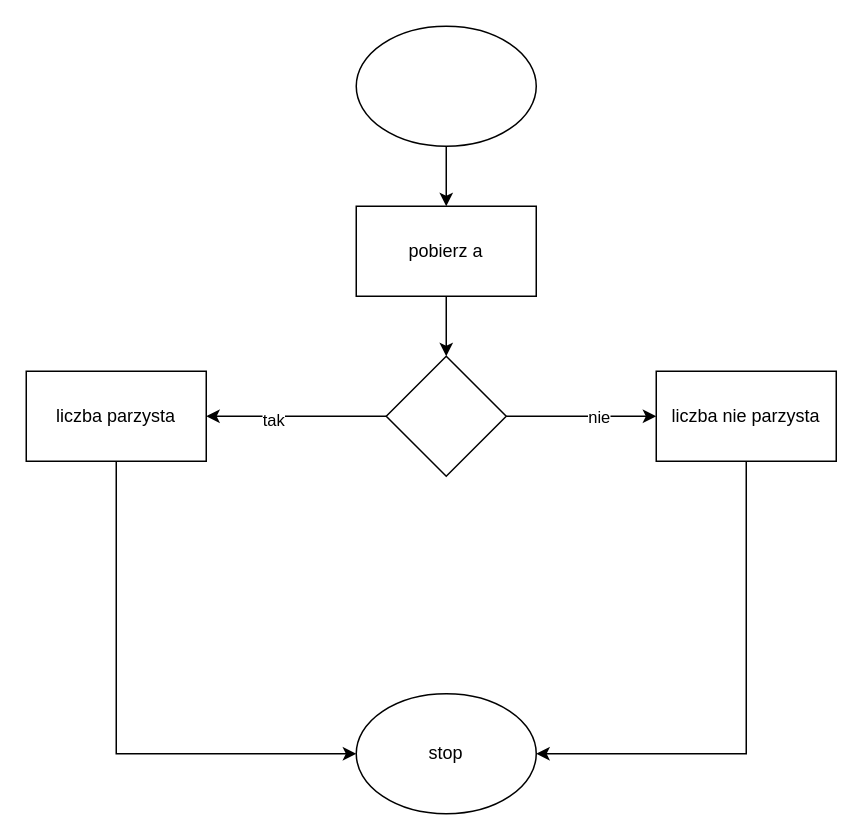
Some shapes in this 863 by 840 pixel diagram are drawn without their labels. The centre of each missing label's shape, as x and y in pixels:
"a mod 2 = 0" goes at point 445,415.
"start" goes at point 445,85.
